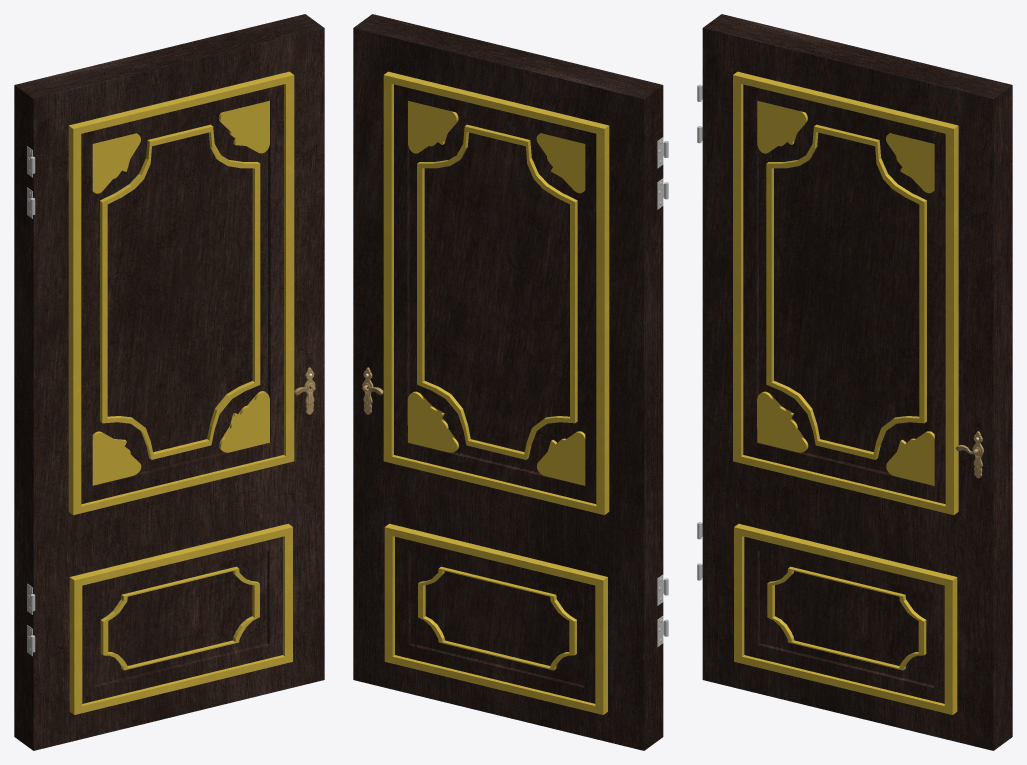
File: door_dinroom_with_texture.fbx
3 views of the same model, side by side, from view 1: azimuth 30°, elevation 25°; view 2: azimuth 150°, elevation 25°; view 3: azimuth 330°, elevation 25° (orthographic).
Parts seen in each view (by area): view 1: door_body; view 2: door_body; view 3: door_body.
Part boxes in pixels (x1,y1,x2,y2): door_body: [14, 14, 324, 750]; door_body: [353, 14, 663, 750]; door_body: [702, 14, 1012, 750].
Bounding box in the file's own units: 37.4 × 79.01 × 6.44.
